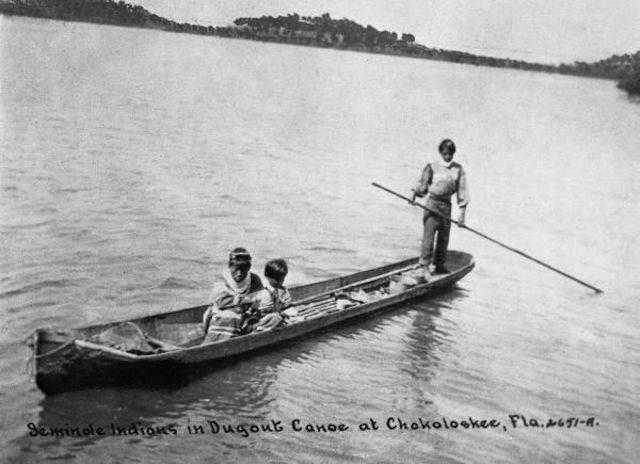kayak: (35, 249, 475, 396)
